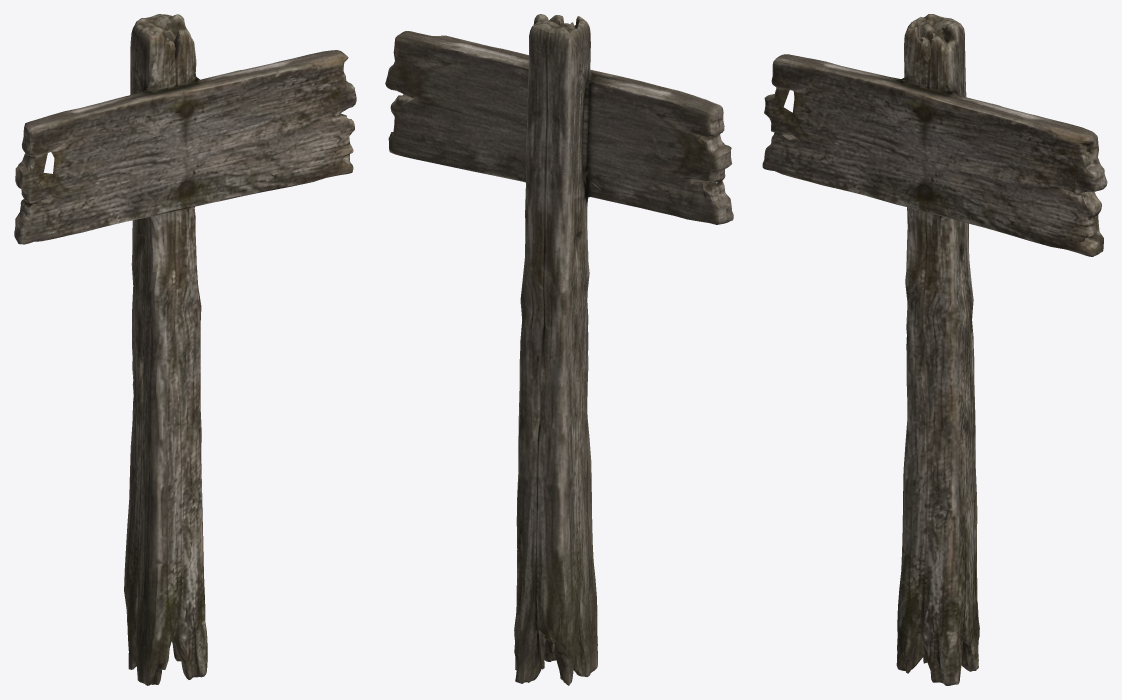
The model's file is p_sign.glb.
The picture shows the model from 3 angles, left to right: view 1: azimuth 30°, elevation 25°; view 2: azimuth 150°, elevation 25°; view 3: azimuth 330°, elevation 25°; orthographic projection.
Visible parts, largest first — view 1: Mesh0; view 2: Mesh0; view 3: Mesh0.
Boxes of the visible parts, x1,y1,x2,y2 form: Mesh0: (14, 14, 356, 685); Mesh0: (385, 14, 733, 685); Mesh0: (762, 14, 1107, 685).
Size of the model in its own units: 1.03 by 1.9 by 0.2088.
1 material, 1 textured.
